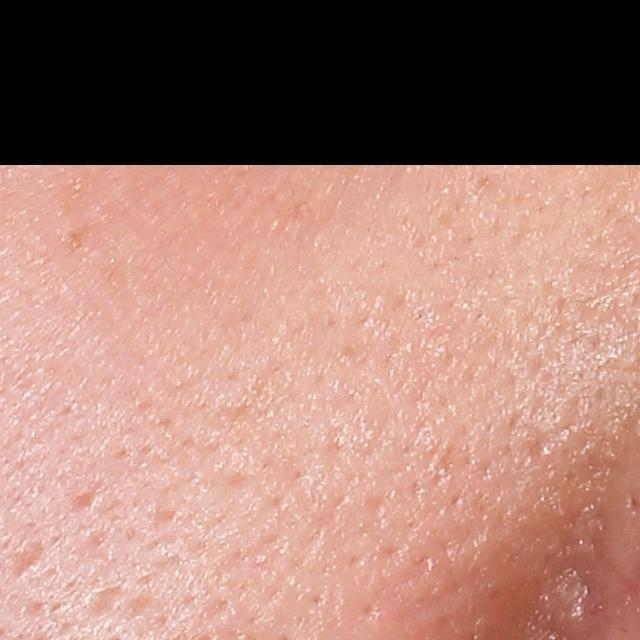atrophic_scar: (4, 534, 46, 585), (82, 582, 120, 620), (67, 484, 98, 514)
melasma: (51, 156, 103, 220), (59, 223, 88, 249)
